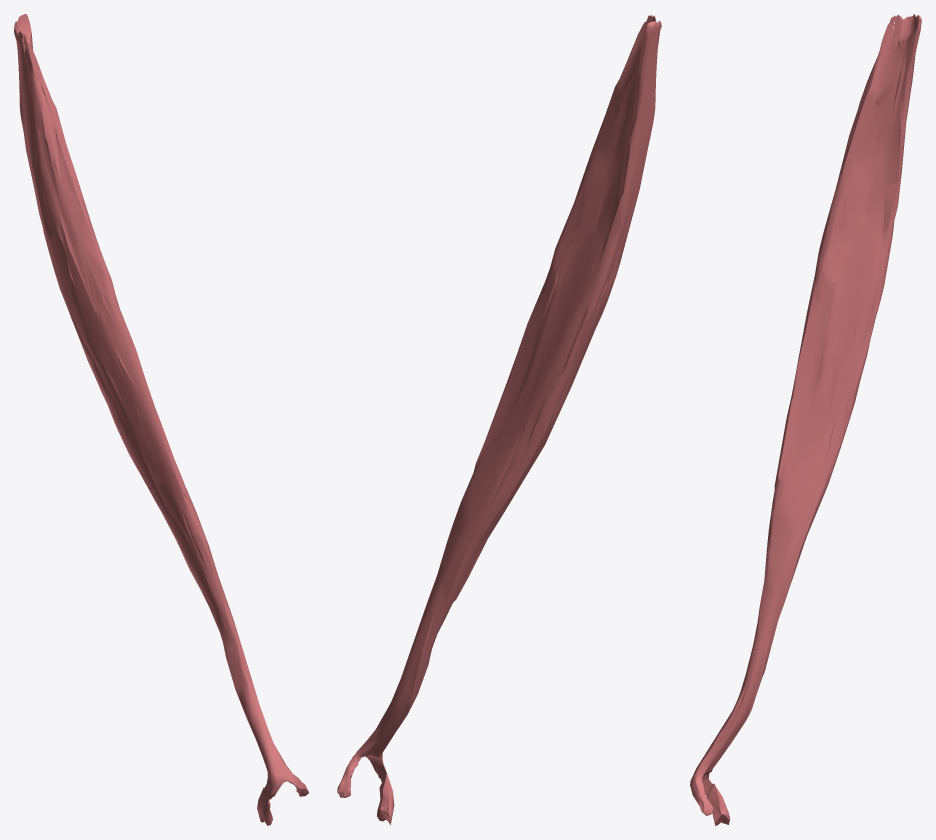
3 renders of one model, left to right at view 1: azimuth 30°, elevation 25°; view 2: azimuth 210°, elevation 25°; view 3: azimuth 270°, elevation 25°, orthographic. The views are drawn at different scales.
Parts seen in each view (by area): view 1: FJ1473M; view 2: FJ1473M; view 3: FJ1473M.
Part boxes in pixels (x1,y1,x2,y2): FJ1473M: (14,14,308,825); FJ1473M: (337,14,661,825); FJ1473M: (690,14,921,825).
Size of the model in its own units: 0.0683 by 0.2654 by 0.075.
